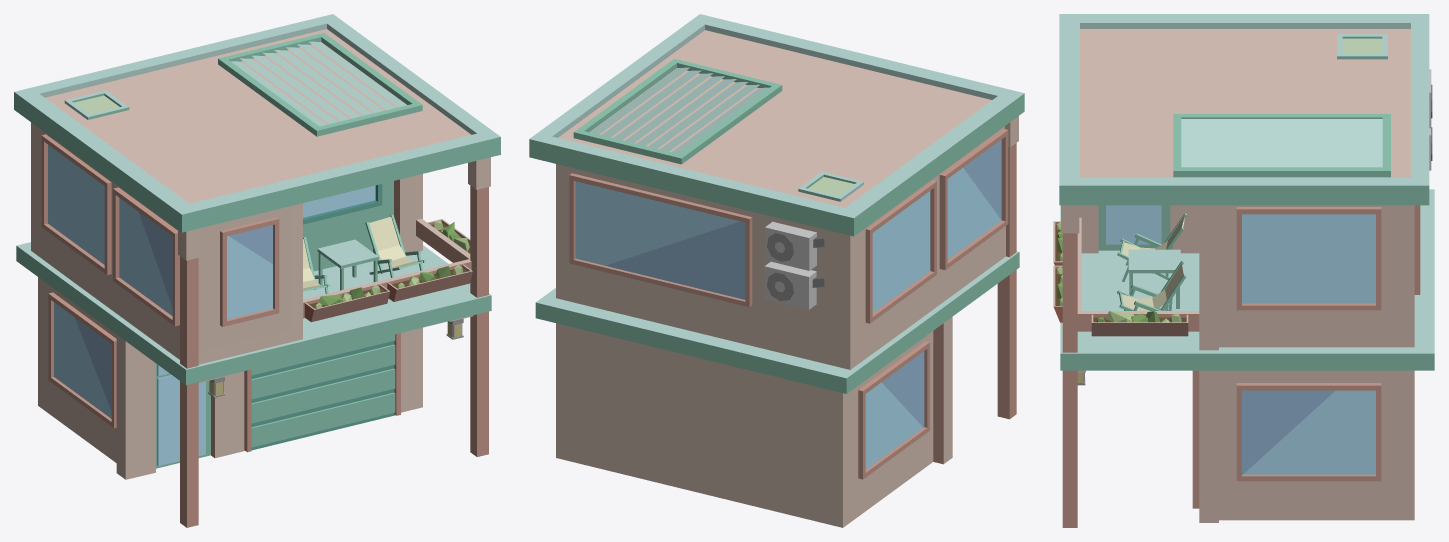
Rendered from cottage_006.fbx.
3 views of the same model, side by side, from view 1: azimuth 30°, elevation 25°; view 2: azimuth 150°, elevation 25°; view 3: azimuth 270°, elevation 25° (orthographic). The views are drawn at different scales.
Visible parts, largest first — view 1: cottage_006; view 2: cottage_006; view 3: cottage_006.
Boxes of the visible parts, <box> form: cottage_006: <box>14,14,500,527</box>; cottage_006: <box>529,14,1024,527</box>; cottage_006: <box>1053,14,1434,527</box>.
Bounding box in the file's own units: 651 × 617 × 611.
